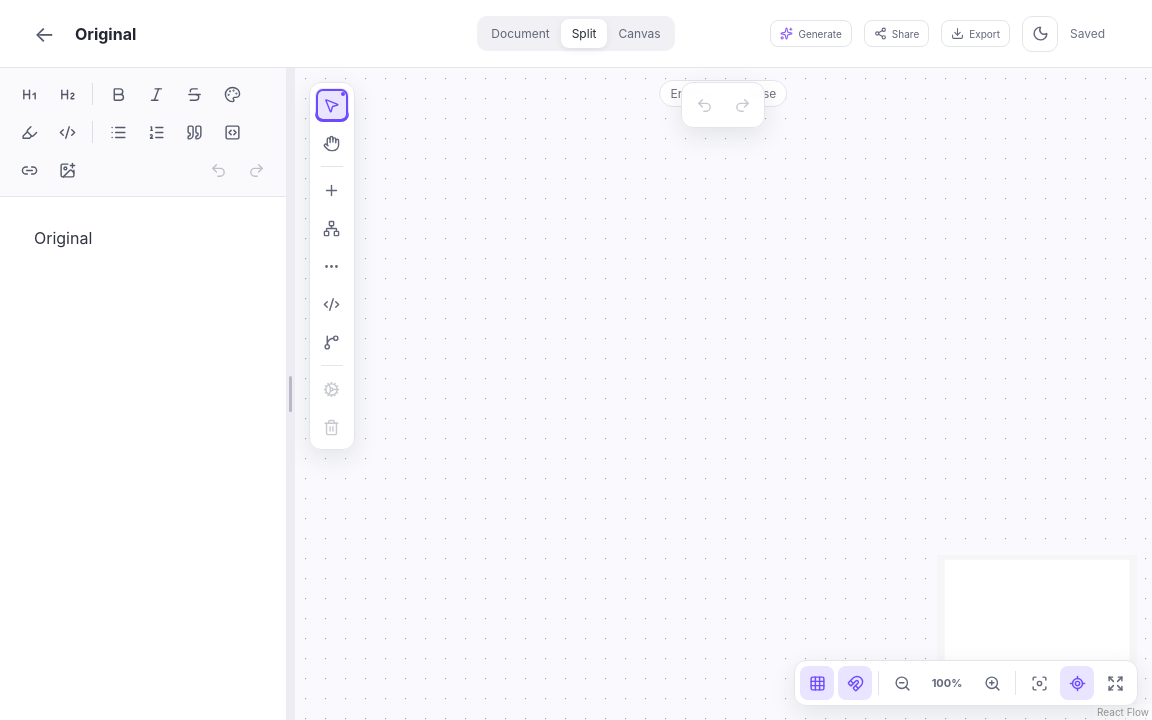
it: Editor conflict recovery › offers every required export target and selection-only mode
This screenshot has width=1152, height=720.
What coordinates should you click on to do the following:
click the button with aria-label "Export project"
I would click on:
 (976, 34)
Its box is [941,20,1010,47].
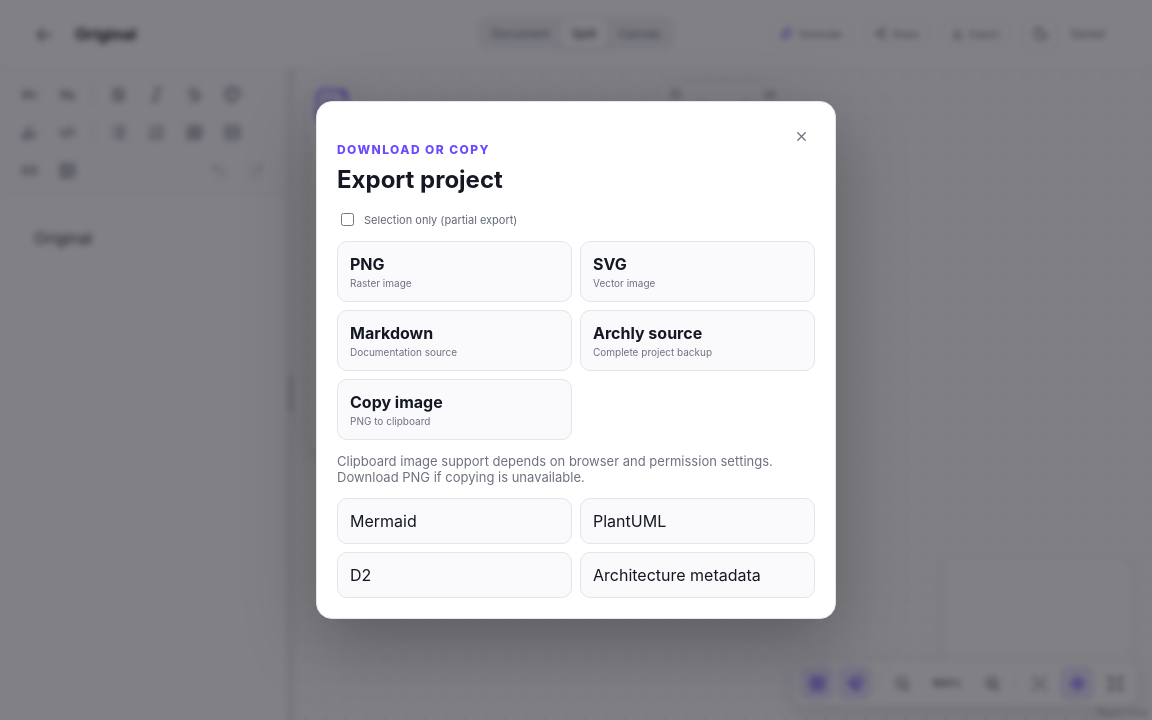
Check: the text "PNG" is shown, box [350,254,385,274]
Check: the text "SVG" is shown, box [593,254,627,274]
Check: the text "Markdown" is shown, box [350,323,433,343]
